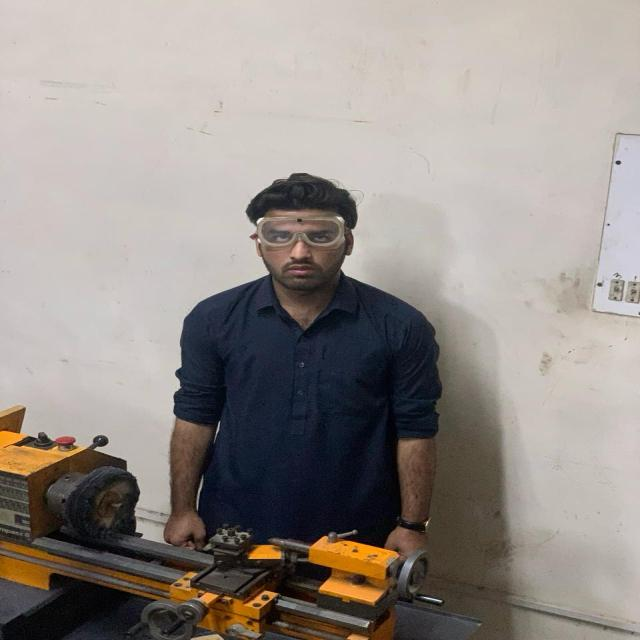googles: (255, 211, 353, 249)
